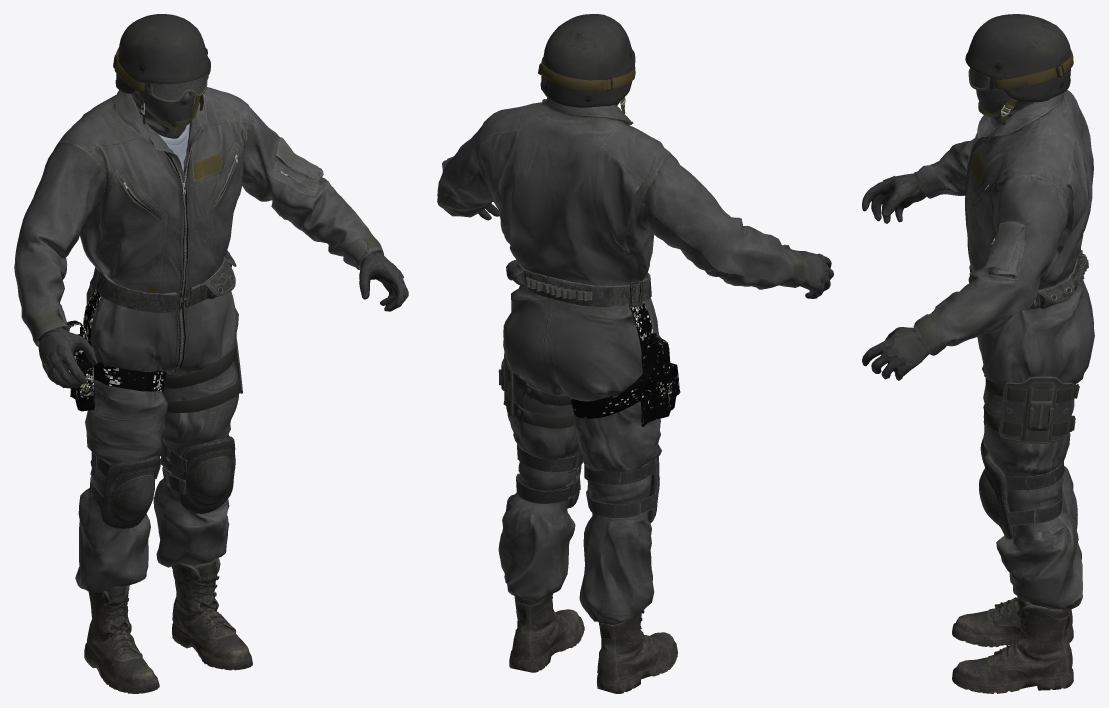
File: John Black Ops Default-compressed.glb
The picture shows the model from 3 angles, left to right: view 1: azimuth 30°, elevation 25°; view 2: azimuth 150°, elevation 25°; view 3: azimuth 270°, elevation 25°; orthographic projection.
Visible parts, largest first — view 1: Mesh_0, Mesh_1, Mesh_3, Mesh_4, Mesh_5, Mesh_2, Mesh_0003, Mesh_8, Mesh_7, Mesh_6, Mesh_10, Mesh_1003 (+3 smaller); view 2: Mesh_0, Mesh_1, Mesh_4, Mesh_3, Mesh_0003, Mesh_6, Mesh_2, Mesh_7, Mesh_5, Mesh_10, Mesh_8, Mesh_3003; view 3: Mesh_0, Mesh_5, Mesh_1, Mesh_3, Mesh_0003, Mesh_8, Mesh_2, Mesh_11, Mesh_4, Mesh_10, Mesh_7, Mesh_1003 (+2 smaller).
Part boxes in pixels (<box>): Mesh_0: <box>57,87,252,375</box>; Mesh_1: <box>75,360,238,592</box>; Mesh_3: <box>84,558,252,693</box>; Mesh_4: <box>14,142,106,346</box>; Mesh_5: <box>242,107,383,269</box>; Mesh_2: <box>89,435,235,528</box>; Mesh_0003: <box>115,14,210,93</box>; Mesh_8: <box>38,250,408,388</box>; Mesh_7: <box>91,250,236,313</box>; Mesh_6: <box>67,289,166,411</box>; Mesh_10: <box>164,348,240,412</box>; Mesh_1003: <box>131,17,195,138</box>; Mesh_0: <box>475,98,669,401</box>; Mesh_1: <box>498,374,661,622</box>; Mesh_4: <box>641,152,807,289</box>; Mesh_3: <box>509,594,677,693</box>; Mesh_0003: <box>540,14,635,107</box>; Mesh_6: <box>570,302,680,426</box>; Mesh_2: <box>516,443,659,523</box>; Mesh_7: <box>506,259,651,307</box>; Mesh_5: <box>437,125,493,217</box>; Mesh_10: <box>505,361,574,428</box>; Mesh_8: <box>478,203,833,298</box>; Mesh_3003: <box>538,57,635,90</box>; Mesh_0: <box>965,90,1094,385</box>; Mesh_5: <box>913,177,1068,355</box>; Mesh_1: <box>982,365,1082,610</box>; Mesh_3: <box>952,596,1073,693</box>; Mesh_0003: <box>965,14,1071,102</box>; Mesh_8: <box>862,173,929,380</box>; Mesh_2: <box>979,421,1064,539</box>; Mesh_11: <box>998,376,1074,443</box>; Mesh_4: <box>913,138,974,198</box>; Mesh_10: <box>984,377,1079,436</box>; Mesh_7: <box>969,248,1088,310</box>; Mesh_1003: <box>976,19,1041,127</box>.
Size of the model in its own units: 104 by 181 by 59.18.
25 materials, 25 textured.
